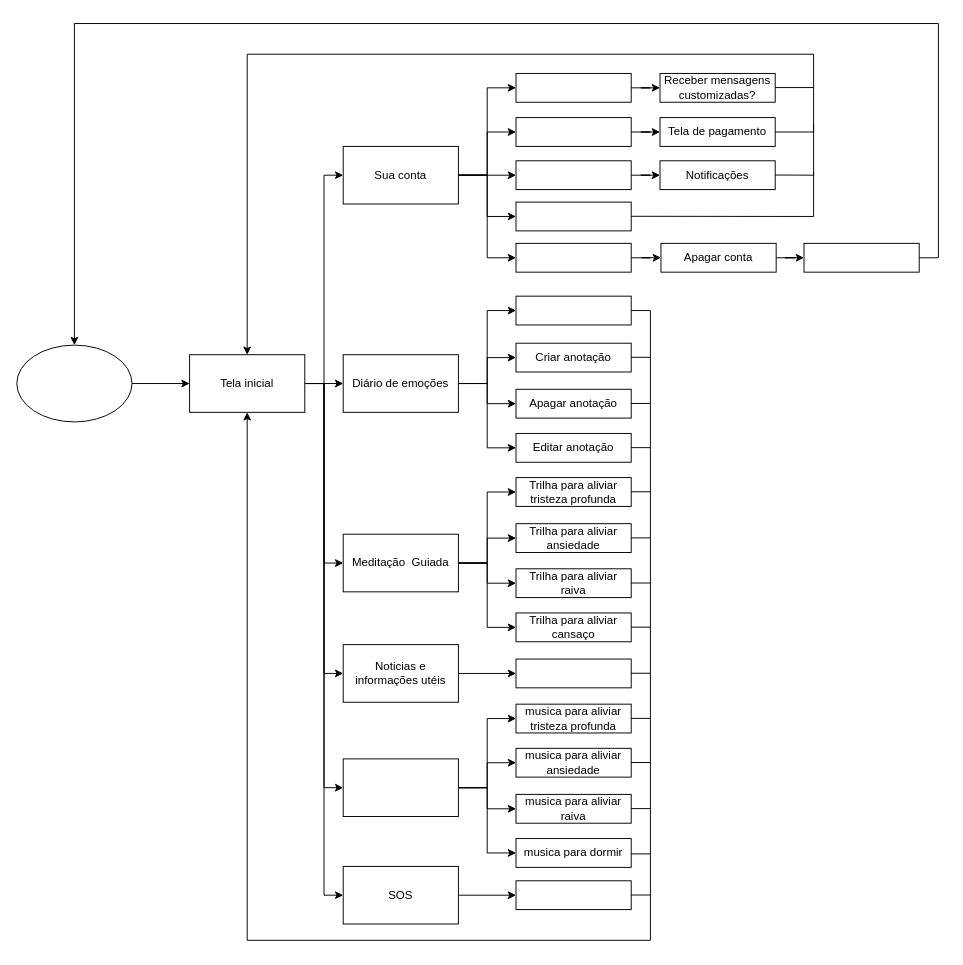
Image size: 963x965. Some labels were removed from this diagram. Each missing label, with the centre of its shape:
"Configurações" goes at pixel 573 257.
"Detalhes da noticia" goes at pixel 573 673.
"Informações do perfil" goes at pixel 573 175.
"Ligue o CVV 188" goes at pixel 573 895.
"Mudar tema" goes at pixel 573 216.
"Musicas relaxantes" goes at pixel 400 787.
"Preferencias do app" goes at pixel 573 87.
"Tela de confirmação" goes at pixel 861 257.
"Tela de login ou registro" goes at pixel 74 383.
"Tornar-se Premium" goes at pixel 573 131.
"Ver anotações" goes at pixel 573 310.
